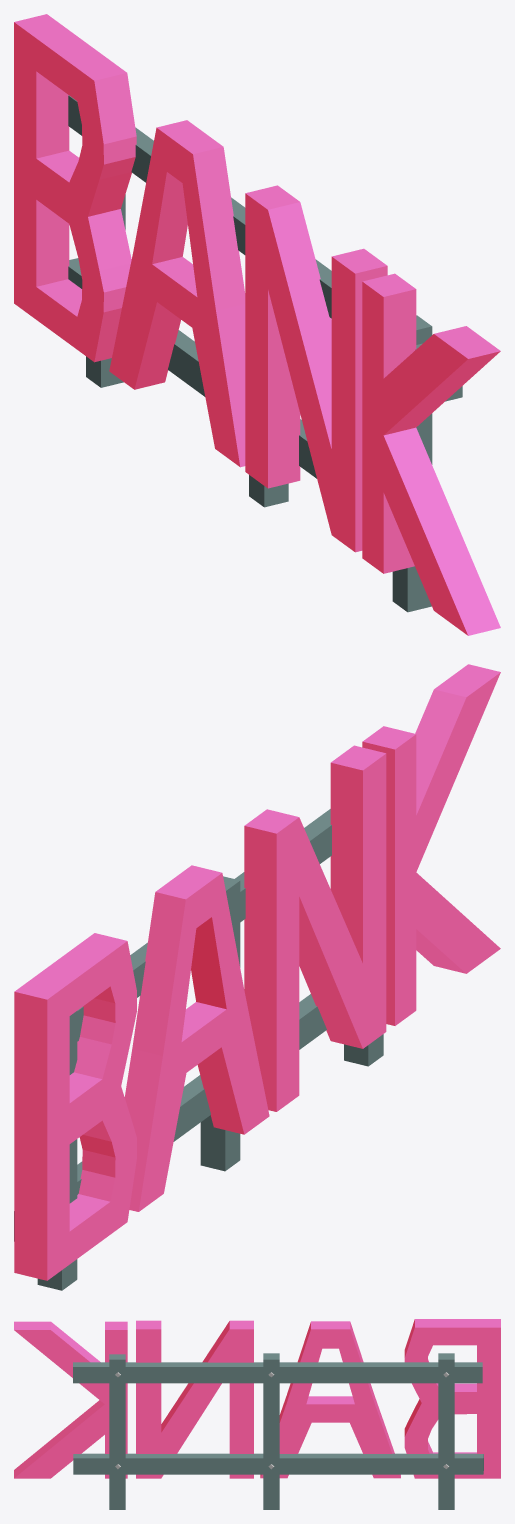
File: SM_Hoarding_01.fbx
3 renders of one model, top to bottom at view 1: azimuth 30°, elevation 25°; view 2: azimuth 150°, elevation 25°; view 3: azimuth 270°, elevation 25°, orthographic. The views are drawn at different scales.
Parts seen in each view (by area): view 1: SM_Hoarding_01_LOD0; view 2: SM_Hoarding_01_LOD0; view 3: SM_Hoarding_01_LOD0.
Part boxes in pixels (x1=…): SM_Hoarding_01_LOD0: x1=14, y1=14, x2=500, y2=635; SM_Hoarding_01_LOD0: x1=14, y1=664, x2=500, y2=1290; SM_Hoarding_01_LOD0: x1=14, y1=1319, x2=500, y2=1509.
Bounding box in the file's own units: 62.18 × 889 × 356.
Materials: 1 (1 with a texture image).
